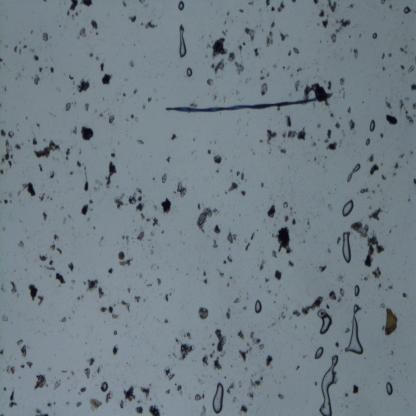Air bubble: (318, 352, 340, 416), (344, 303, 365, 356), (212, 381, 226, 414), (341, 230, 353, 263), (178, 25, 188, 58), (346, 164, 362, 184), (319, 314, 334, 335), (342, 198, 354, 218), (252, 298, 264, 314), (384, 380, 394, 398), (314, 347, 324, 360), (186, 65, 194, 79), (369, 118, 376, 134), (178, 1, 186, 12), (354, 284, 360, 298), (403, 6, 412, 14), (364, 137, 370, 146), (372, 32, 378, 40)
Background material: (352, 220, 386, 268), (0, 127, 22, 175), (114, 188, 147, 219), (302, 81, 334, 106), (272, 226, 294, 256), (398, 98, 416, 126), (300, 295, 324, 316), (34, 141, 62, 158), (197, 203, 212, 233), (29, 282, 46, 307), (248, 330, 267, 352), (383, 309, 398, 336), (214, 325, 228, 352), (104, 160, 117, 189), (212, 37, 228, 59), (100, 380, 114, 404), (180, 341, 196, 361), (100, 304, 119, 320), (48, 235, 62, 256), (40, 254, 56, 272), (80, 124, 95, 142), (84, 356, 95, 380), (35, 372, 48, 392), (66, 1, 80, 19), (334, 18, 352, 32), (8, 388, 20, 409), (22, 181, 36, 198), (265, 128, 278, 146), (76, 78, 90, 94), (17, 336, 27, 358), (236, 348, 250, 363), (163, 365, 176, 381), (123, 386, 136, 402), (265, 202, 277, 219), (161, 196, 172, 214), (148, 402, 162, 416), (138, 384, 151, 399), (89, 396, 102, 411), (210, 61, 225, 74), (250, 376, 265, 389), (385, 112, 398, 126), (369, 208, 382, 222), (119, 300, 132, 314), (86, 278, 99, 291), (327, 289, 339, 303), (227, 229, 238, 244), (282, 129, 298, 139), (213, 356, 223, 372), (368, 164, 380, 177), (198, 306, 209, 320), (264, 354, 275, 368), (37, 188, 48, 202), (178, 182, 188, 197), (34, 406, 50, 415), (56, 271, 66, 285), (298, 128, 308, 142), (102, 75, 112, 89), (226, 381, 236, 395), (274, 269, 284, 283), (266, 30, 274, 47), (5, 365, 17, 376), (245, 28, 256, 40), (110, 343, 120, 356), (79, 27, 89, 40), (373, 266, 382, 280), (80, 204, 89, 218), (384, 96, 393, 110), (201, 353, 210, 367), (146, 21, 160, 30), (221, 255, 232, 266), (235, 63, 246, 74), (228, 182, 239, 193), (326, 142, 338, 152), (228, 51, 238, 63), (338, 87, 348, 99), (96, 286, 104, 301), (236, 170, 246, 182), (328, 0, 337, 13), (91, 18, 99, 32), (214, 152, 222, 166), (348, 118, 356, 132), (330, 31, 338, 45), (10, 280, 17, 296), (136, 230, 144, 244), (81, 0, 95, 8), (118, 258, 132, 266), (337, 286, 344, 302), (239, 404, 250, 414), (1, 312, 12, 322), (245, 389, 255, 400), (318, 263, 327, 275), (367, 152, 376, 164), (121, 233, 130, 245), (16, 238, 25, 250), (213, 223, 222, 235), (293, 79, 301, 92), (68, 73, 76, 86), (278, 310, 288, 320), (195, 392, 206, 401), (176, 383, 183, 397), (277, 0, 285, 12), (306, 218, 314, 230), (82, 180, 90, 192), (203, 269, 209, 285), (224, 308, 232, 320), (40, 210, 48, 222), (130, 111, 138, 123), (237, 329, 245, 341), (34, 76, 42, 88), (108, 114, 116, 126), (285, 115, 292, 128), (260, 83, 267, 96), (98, 233, 105, 246), (280, 32, 289, 42), (128, 14, 138, 23), (47, 169, 56, 179), (342, 326, 351, 336), (107, 266, 116, 276), (206, 78, 215, 88), (293, 309, 302, 319), (14, 45, 22, 56), (144, 277, 152, 288), (188, 102, 199, 110), (36, 160, 43, 172), (260, 258, 266, 272), (352, 383, 359, 395), (64, 102, 72, 112), (338, 76, 346, 86), (136, 405, 144, 415), (360, 186, 370, 194), (287, 258, 295, 268), (70, 125, 78, 135), (291, 218, 299, 228), (326, 127, 332, 140), (14, 70, 21, 81), (199, 404, 206, 415), (212, 239, 219, 250), (128, 57, 135, 68), (333, 340, 341, 349), (65, 149, 71, 161), (216, 269, 224, 278), (292, 46, 300, 55), (321, 20, 329, 29), (234, 297, 243, 305), (137, 137, 145, 146), (240, 303, 249, 311), (68, 278, 74, 290), (96, 365, 104, 374), (68, 261, 74, 273), (42, 33, 49, 43), (53, 380, 60, 390), (170, 132, 177, 142), (240, 188, 247, 198), (138, 0, 148, 7), (253, 48, 260, 58), (161, 174, 168, 184), (353, 48, 359, 59), (84, 101, 90, 112), (400, 47, 408, 55), (408, 66, 416, 74), (95, 177, 103, 185), (318, 10, 326, 18), (380, 173, 388, 181), (278, 392, 286, 400), (75, 160, 83, 168), (134, 294, 141, 303), (76, 294, 85, 301), (110, 150, 116, 160), (325, 245, 331, 255), (327, 79, 332, 91), (61, 315, 67, 325), (31, 136, 37, 146), (156, 276, 162, 286), (154, 218, 160, 228), (334, 121, 341, 129), (79, 386, 87, 393), (409, 84, 416, 92), (271, 250, 278, 258), (386, 51, 393, 59), (282, 202, 290, 209), (165, 293, 170, 304), (250, 231, 255, 242), (76, 400, 82, 409), (347, 106, 353, 115), (336, 236, 342, 245), (61, 216, 67, 225), (376, 282, 382, 291), (245, 242, 251, 251), (279, 148, 288, 154), (400, 63, 406, 72), (119, 400, 125, 409), (150, 246, 155, 256), (237, 44, 242, 54), (327, 112, 334, 119), (213, 208, 220, 215), (28, 360, 34, 368), (270, 21, 276, 29), (165, 388, 171, 396), (34, 54, 40, 62), (324, 136, 330, 144), (338, 276, 344, 284), (122, 0, 128, 8), (343, 390, 349, 398), (386, 285, 394, 291), (378, 132, 384, 140), (20, 362, 26, 370), (232, 396, 238, 404), (378, 303, 386, 309), (408, 150, 414, 158), (337, 140, 343, 148), (7, 190, 12, 199), (327, 203, 332, 212), (394, 162, 399, 171), (100, 61, 104, 72), (28, 28, 34, 35), (313, 0, 320, 6), (265, 289, 272, 295), (49, 67, 55, 74), (224, 282, 230, 289), (402, 292, 409, 298), (88, 198, 94, 205), (284, 216, 290, 223), (265, 71, 271, 78), (346, 2, 353, 8), (287, 49, 292, 57), (313, 378, 318, 386), (258, 75, 266, 80), (242, 40, 247, 48), (380, 52, 385, 60), (406, 196, 411, 204), (0, 58, 5, 66), (412, 177, 416, 186), (36, 67, 42, 73), (234, 90, 240, 96), (272, 63, 278, 69), (247, 0, 253, 6), (214, 169, 220, 175), (363, 274, 369, 280), (65, 402, 72, 407), (325, 303, 330, 310), (139, 273, 144, 280), (388, 3, 393, 10), (207, 148, 212, 155), (151, 230, 156, 237), (265, 0, 270, 7), (264, 277, 269, 284), (0, 348, 4, 356), (36, 120, 40, 128), (210, 350, 214, 358), (148, 96, 152, 104), (167, 156, 171, 164), (133, 88, 137, 96), (4, 86, 8, 94), (304, 353, 309, 359), (2, 386, 7, 392), (283, 305, 289, 310), (296, 364, 301, 370), (206, 43, 211, 49), (312, 142, 318, 147), (243, 366, 248, 372), (89, 52, 94, 58), (223, 29, 228, 35), (122, 92, 127, 98), (99, 112, 104, 118), (341, 130, 346, 136), (259, 69, 264, 75), (127, 287, 131, 294), (71, 369, 75, 376), (314, 155, 318, 162), (294, 323, 298, 330), (398, 154, 405, 158), (239, 8, 244, 13), (228, 168, 233, 173), (258, 139, 263, 144), (16, 191, 21, 196), (113, 330, 118, 335), (46, 403, 52, 407), (67, 374, 71, 380), (4, 198, 8, 204), (290, 72, 294, 78), (239, 380, 242, 388), (226, 10, 230, 16), (60, 205, 64, 211), (260, 182, 264, 188), (42, 137, 46, 143), (61, 370, 68, 373), (77, 392, 82, 396), (191, 138, 196, 142), (161, 229, 165, 234), (381, 68, 386, 72), (140, 21, 144, 26), (376, 184, 380, 189), (95, 31, 99, 36), (297, 68, 302, 72), (317, 123, 321, 128), (381, 0, 386, 4), (142, 105, 146, 110), (25, 115, 28, 121), (287, 65, 290, 71), (229, 276, 233, 280), (282, 66, 286, 70), (198, 378, 202, 382), (316, 22, 320, 26), (348, 34, 352, 38), (66, 390, 70, 394), (202, 347, 206, 351), (372, 189, 376, 193), (70, 171, 73, 176), (292, 0, 297, 3), (42, 0, 48, 2), (95, 109, 98, 113), (96, 57, 100, 60), (273, 300, 276, 304), (319, 40, 322, 44), (211, 343, 214, 347), (238, 212, 240, 218), (359, 34, 362, 38), (0, 102, 2, 108), (224, 21, 227, 25), (223, 376, 226, 379), (0, 413, 3, 416), (53, 402, 56, 405), (0, 200, 2, 204), (50, 197, 52, 201), (23, 46, 27, 48), (231, 364, 233, 368)
Cotton: (165, 94, 321, 115)
Diatom: (118, 250, 124, 260)
